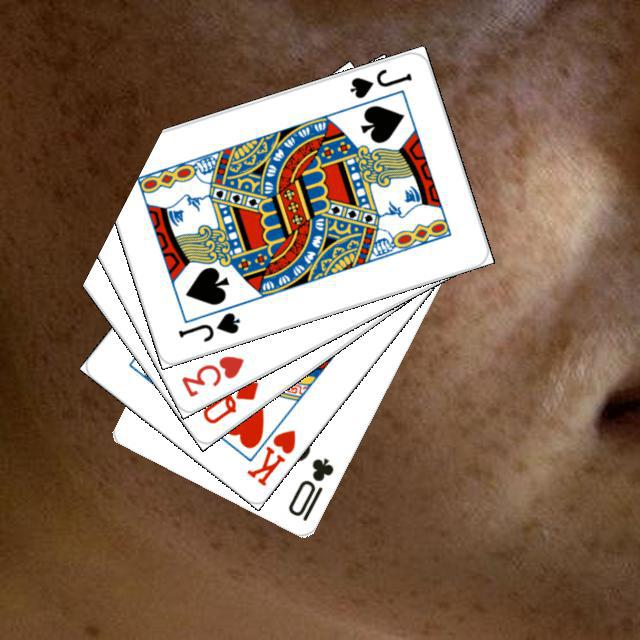10c: (283, 452, 336, 523)
3h: (176, 350, 246, 399)
Js: (173, 307, 242, 344), (345, 64, 414, 100)
Kh: (240, 410, 298, 488)
Qd: (197, 375, 261, 426)
